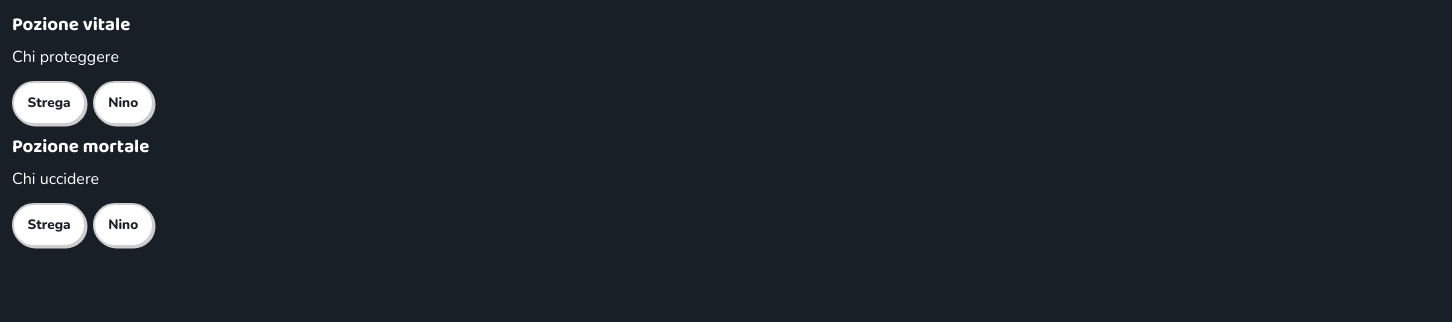
Test case: la pozione mortale sul Nano non ha effetto: avviso "non può morire di notte"
Click the button "Nino" below "Chi uccidere": (123, 225) 93,203 -> 154,247
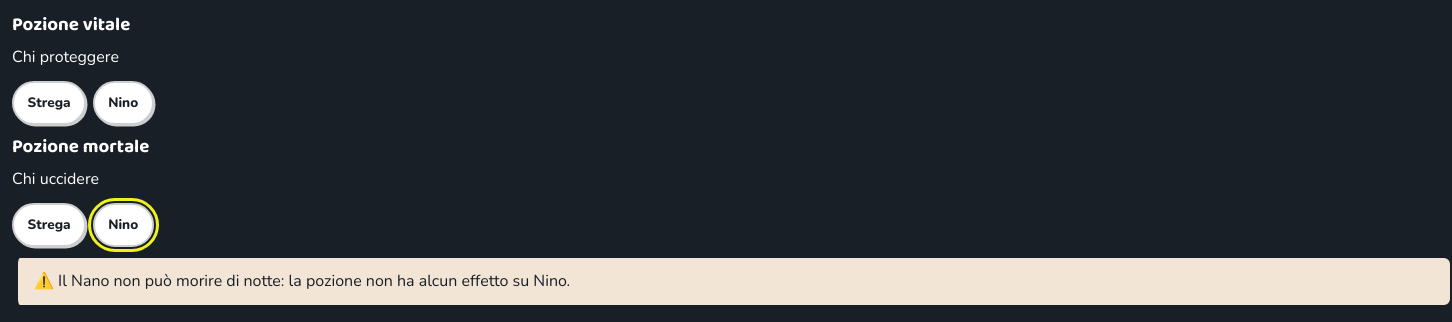
Check: the text "Il Nano non può morire di notte" is shown, box 58,270 -> 570,292
